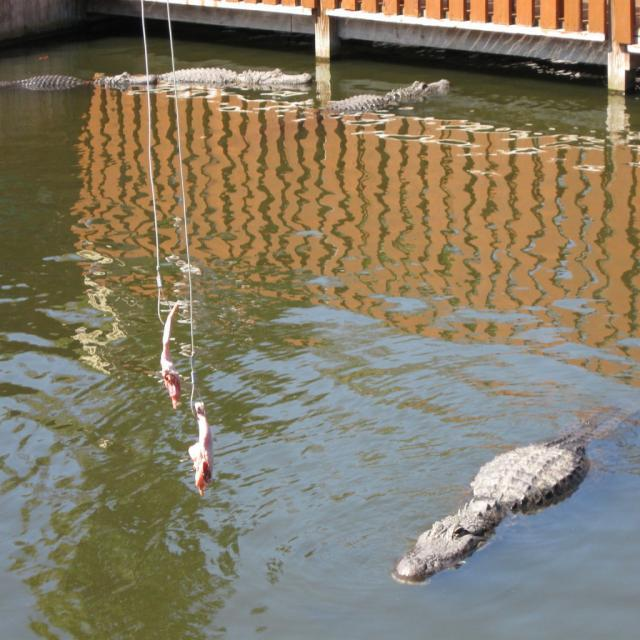crocodile: (375, 381, 639, 598)
